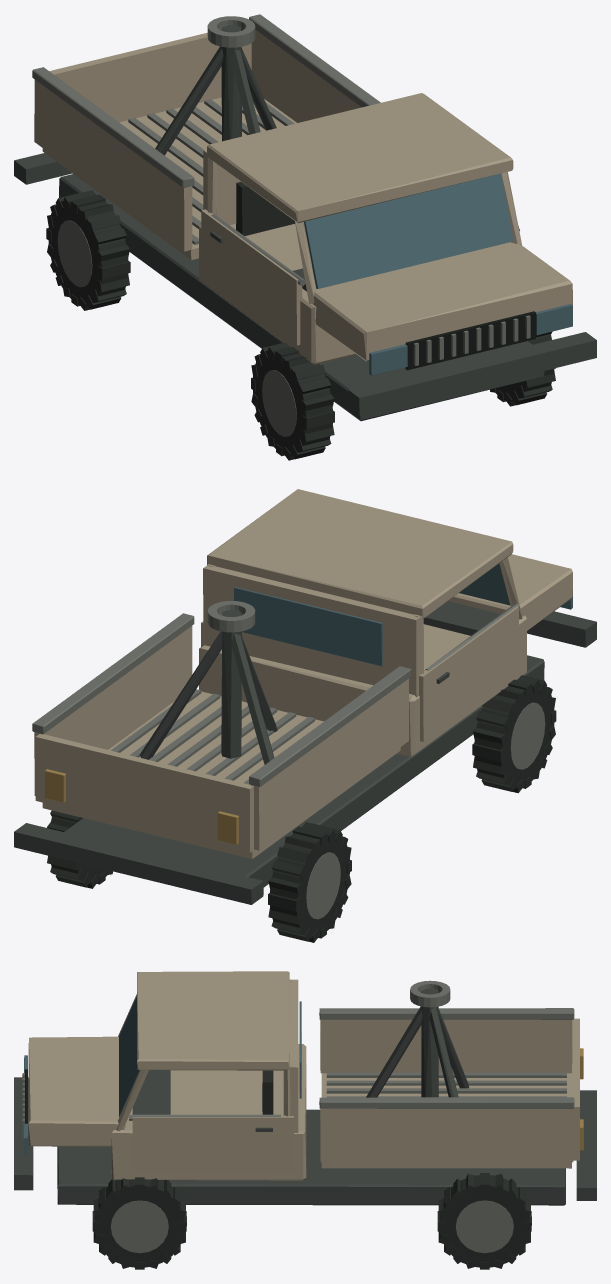
Rendered from technical-pickup-support-lod.glb.
3 renders of one model, top to bottom at view 1: azimuth 30°, elevation 25°; view 2: azimuth 150°, elevation 25°; view 3: azimuth 270°, elevation 25°, orthographic. The views are drawn at different scales.
Parts seen in each view (by area): view 1: TechnicalBody_weathered sand, TechnicalBody_phosphate steel, TechnicalBody_glass, TechnicalBody_worn edges, Wheel_-1.46_-1_black rubber, Wheel_1.45_-1_black rubber, TechnicalBody_dark cavity, TechnicalBody_black rubber, Wheel_1.45_-1_worn edges, Wheel_-1.46_-1_worn edges, Wheel_1.45_1_black rubber; view 2: TechnicalBody_weathered sand, TechnicalBody_phosphate steel, TechnicalBody_worn edges, TechnicalBody_glass, Wheel_-1.46_-1_black rubber, Wheel_1.45_-1_black rubber, Wheel_-1.46_-1_worn edges, Wheel_1.45_-1_worn edges, Wheel_-1.46_1_black rubber, TechnicalBody_brass; view 3: TechnicalBody_weathered sand, TechnicalBody_phosphate steel, TechnicalBody_worn edges, Wheel_-1.46_1_black rubber, Wheel_1.45_1_black rubber, Wheel_-1.46_1_worn edges, Wheel_1.45_1_worn edges, TechnicalBody_glass, TechnicalBody_black rubber.
Boxes of the visible parts, left/top/right/bottom form: TechnicalBody_weathered sand: left=34, top=29, right=572, bottom=364; TechnicalBody_phosphate steel: left=14, top=25, right=596, bottom=421; TechnicalBody_glass: left=304, top=173, right=572, bottom=375; TechnicalBody_worn edges: left=32, top=14, right=530, bottom=365; Wheel_-1.46_-1_black rubber: left=46, top=190, right=130, bottom=310; Wheel_1.45_-1_black rubber: left=251, top=342, right=334, bottom=460; TechnicalBody_dark cavity: left=405, top=311, right=535, bottom=370; TechnicalBody_black rubber: left=236, top=182, right=295, bottom=235; Wheel_1.45_-1_worn edges: left=262, top=370, right=296, bottom=436; Wheel_-1.46_-1_worn edges: left=57, top=220, right=92, bottom=287; Wheel_1.45_1_black rubber: left=490, top=331, right=555, bottom=406; TechnicalBody_weathered sand: left=34, top=489, right=572, bottom=858; TechnicalBody_phosphate steel: left=14, top=601, right=596, bottom=904; TechnicalBody_worn edges: left=32, top=601, right=519, bottom=786; TechnicalBody_glass: left=234, top=563, right=572, bottom=666; Wheel_-1.46_-1_black rubber: left=268, top=822, right=351, bottom=942; Wheel_1.45_-1_black rubber: left=472, top=675, right=556, bottom=793; Wheel_-1.46_-1_worn edges: left=306, top=852, right=340, bottom=919; Wheel_1.45_-1_worn edges: left=510, top=702, right=545, bottom=769; Wheel_-1.46_1_black rubber: left=47, top=810, right=112, bottom=888; TechnicalBody_brass: left=45, top=769, right=238, bottom=844; TechnicalBody_weathered sand: left=28, top=971, right=579, bottom=1180; TechnicalBody_phosphate steel: left=14, top=988, right=596, bottom=1205; TechnicalBody_worn edges: left=22, top=980, right=574, bottom=1138; Wheel_-1.46_1_black rubber: left=437, top=1173, right=531, bottom=1269; Wheel_1.45_1_black rubber: left=92, top=1177, right=186, bottom=1269; Wheel_-1.46_1_worn edges: left=455, top=1200, right=513, bottom=1253; Wheel_1.45_1_worn edges: left=110, top=1200, right=168, bottom=1253; TechnicalBody_glass: left=24, top=996, right=301, bottom=1156; TechnicalBody_black rubber: left=262, top=1070, right=273, bottom=1114.
Bounding box in the file's own units: 2.05 × 2.13 × 4.92.
